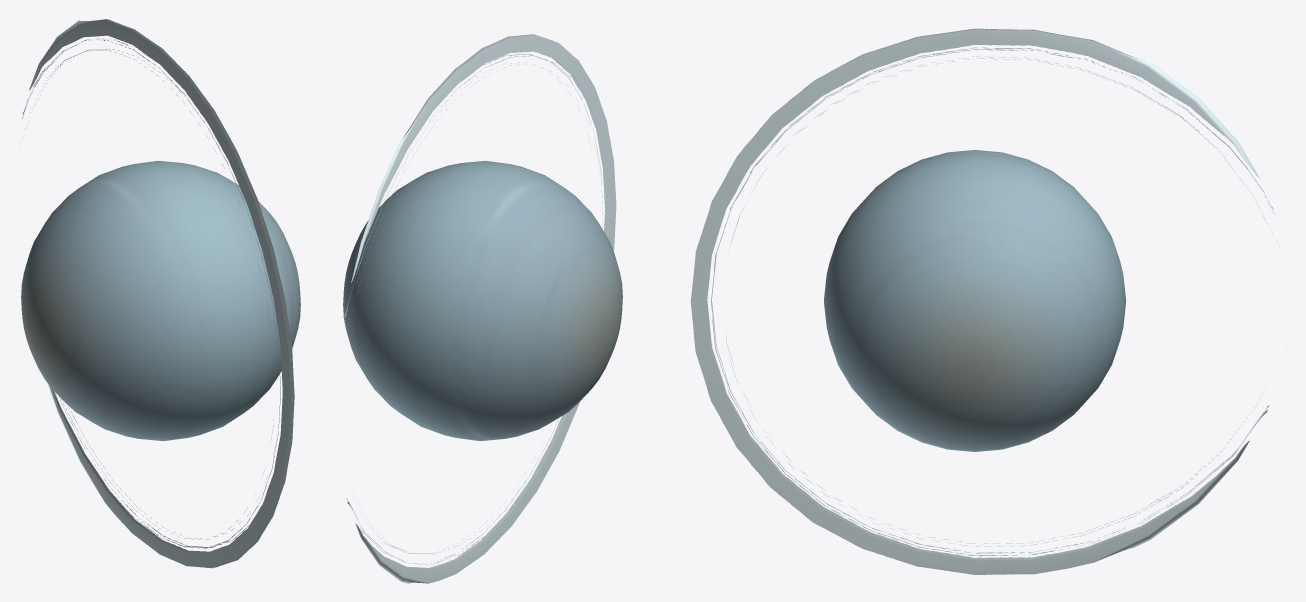
Rendered from uranus.glb.
The picture shows the model from 3 angles, left to right: view 1: azimuth 30°, elevation 25°; view 2: azimuth 150°, elevation 25°; view 3: azimuth 270°, elevation 25°; orthographic projection. The views are drawn at different scales.
Visible parts, largest first — view 1: Object_4, Object_3; view 2: Object_4, Object_3; view 3: Object_4, Object_3.
Part boxes in pixels (x1=…): Object_4: x1=21, y1=160, x2=300, y2=441; Object_3: x1=21, y1=19, x2=294, y2=568; Object_4: x1=343, y1=160, x2=622, y2=441; Object_3: x1=343, y1=34, x2=616, y2=583; Object_4: x1=824, y1=150, x2=1125, y2=451; Object_3: x1=690, y1=28, x2=1286, y2=574.
Size of the model in its own units: 640 by 1340 by 1340.
Materials: 3 (2 with a texture image).
